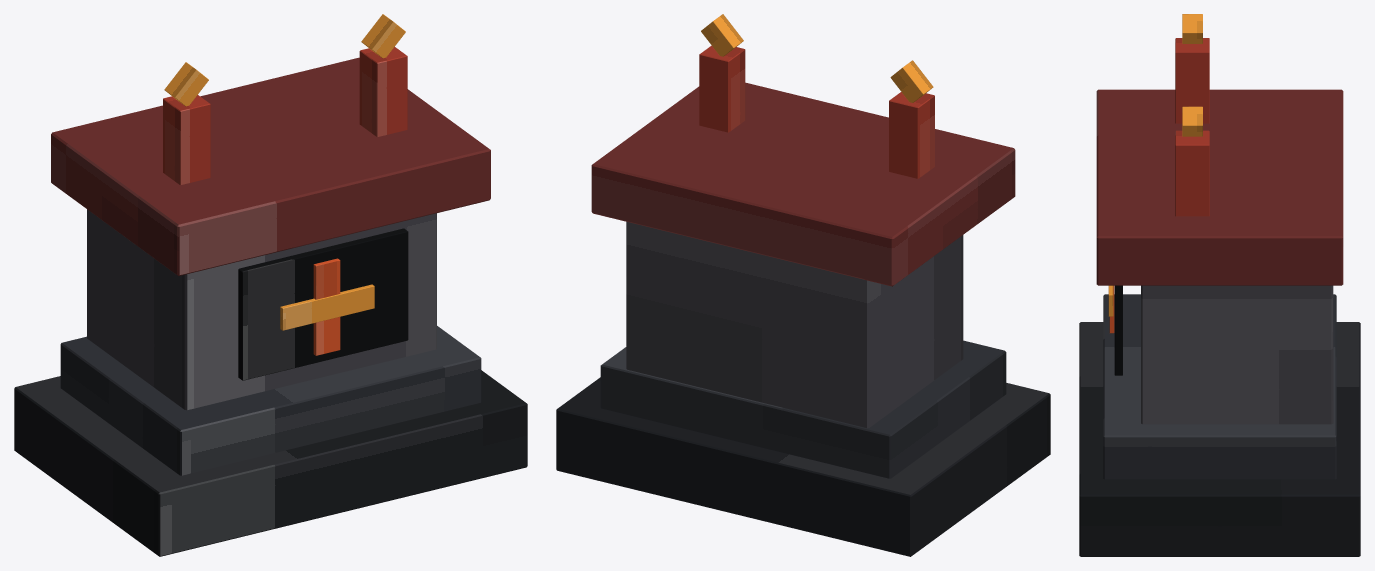
Rendered from inferno_altar.glb.
3 views of the same model, side by side, from view 1: azimuth 30°, elevation 25°; view 2: azimuth 150°, elevation 25°; view 3: azimuth 270°, elevation 25° (orthographic). The views are drawn at different scales.
Visible parts, largest first — view 1: AltarTop, AltarStepLower, AltarBody, AltarStepUpper, AltarInset, AltarCandle_2, AltarCandle_1, RuneHorizontal, RuneVertical, AltarFlame_1, AltarFlame_2; view 2: AltarTop, AltarBody, AltarStepLower, AltarStepUpper, AltarCandle_2, AltarCandle_1, AltarFlame_2, AltarFlame_1; view 3: AltarTop, AltarStepLower, AltarBody, AltarStepUpper, AltarCandle_2, AltarCandle_1, AltarInset, AltarFlame_2, AltarFlame_1.
Boxes of the visible parts, x1,y1,x2,y2 form: AltarTop: (51, 57, 490, 275); AltarStepLower: (14, 370, 527, 556); AltarBody: (87, 209, 436, 410); AltarStepUpper: (60, 326, 481, 475); AltarInset: (238, 228, 408, 380); AltarCandle_2: (359, 47, 407, 136); AltarCandle_1: (163, 95, 210, 184); RuneHorizontal: (280, 284, 374, 330); RuneVertical: (313, 258, 340, 355); AltarFlame_1: (164, 62, 208, 106); AltarFlame_2: (361, 14, 405, 58); AltarTop: (591, 82, 1015, 286); AltarBody: (626, 221, 963, 428); AltarStepLower: (556, 377, 1050, 556); AltarStepUpper: (600, 340, 1006, 478); AltarCandle_2: (699, 45, 745, 132); AltarCandle_1: (889, 92, 934, 178); AltarFlame_2: (701, 14, 743, 56); AltarFlame_1: (890, 60, 933, 102); AltarTop: (1096, 89, 1343, 285); AltarStepLower: (1079, 322, 1360, 556); AltarBody: (1141, 285, 1333, 424); AltarStepUpper: (1103, 294, 1336, 479); AltarCandle_2: (1175, 130, 1209, 216); AltarCandle_1: (1175, 38, 1209, 123); AltarInset: (1114, 285, 1122, 375); AltarFlame_2: (1182, 106, 1202, 136); AltarFlame_1: (1182, 14, 1202, 43).
Size of the model in its own units: 1.2 by 1.33 by 0.82.
1 material, 1 textured.
